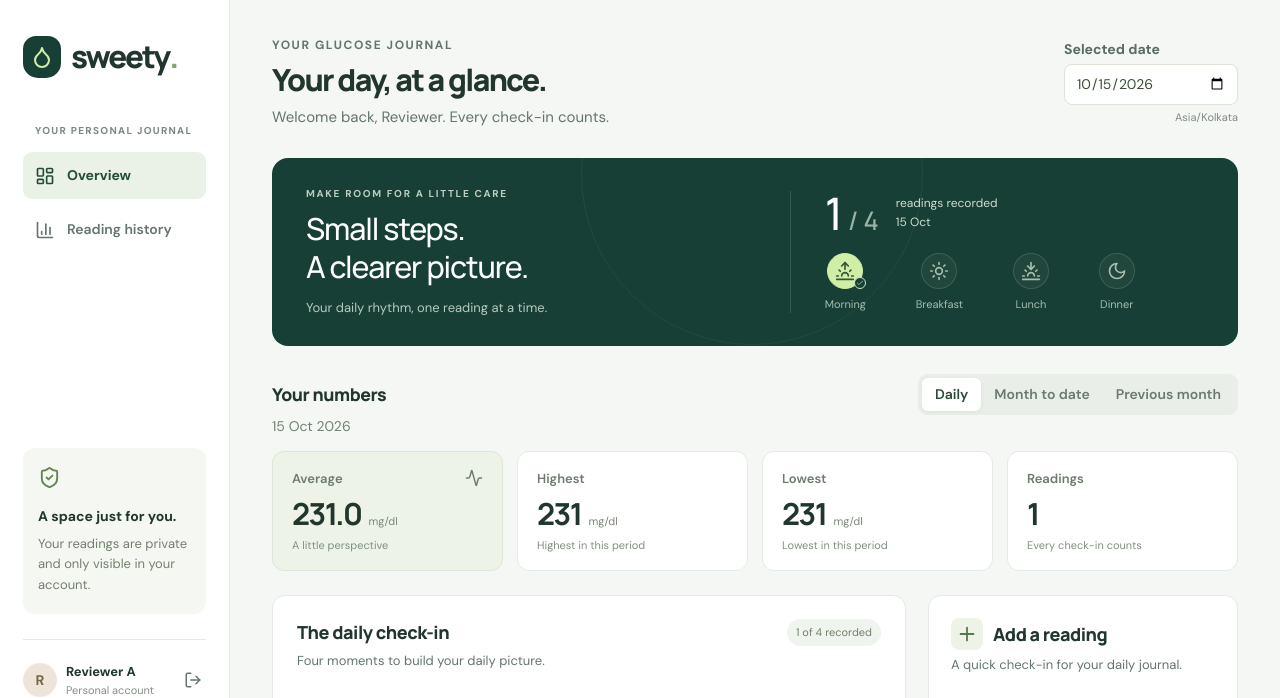
a failed date change must not expose the previous date as the active daily readings
Type "2026-10-14" into the date field labelled "Selected date" at (1151, 84), box top-left (1064, 64), bottom-right (1238, 105)
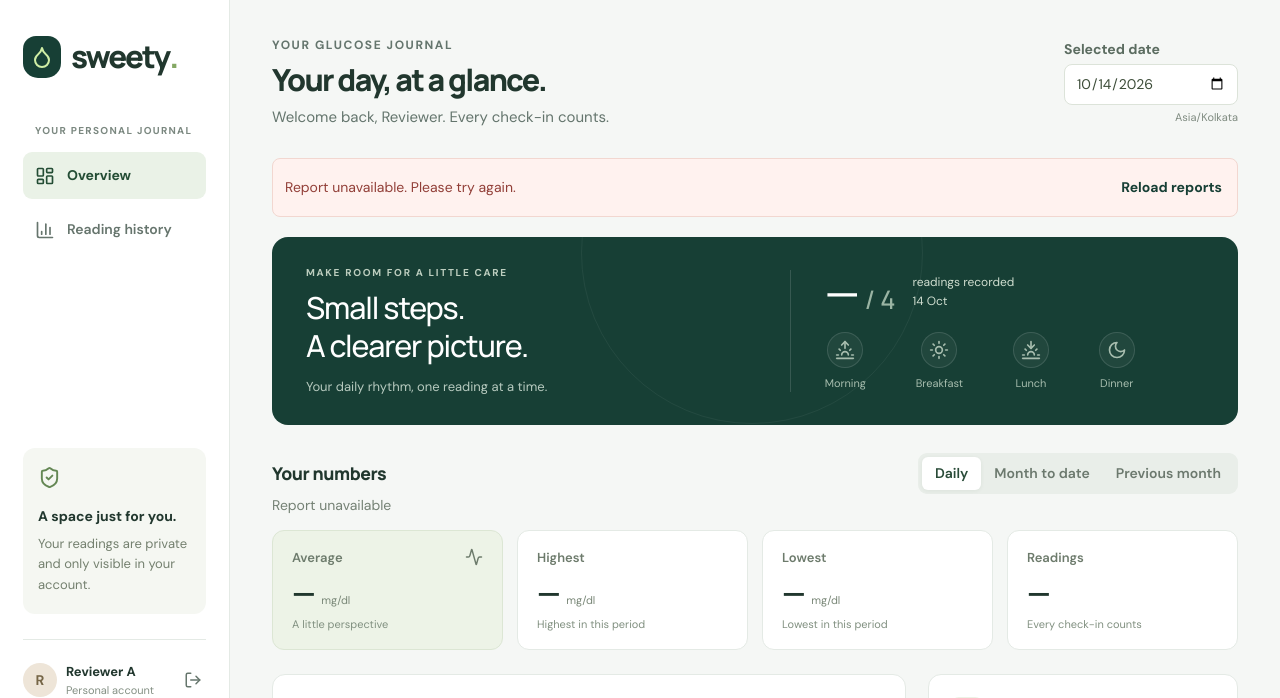
Now the message "Report unavailable. Please try again. Reload reports" is shown, box top-left (272, 158), bottom-right (1238, 217)
